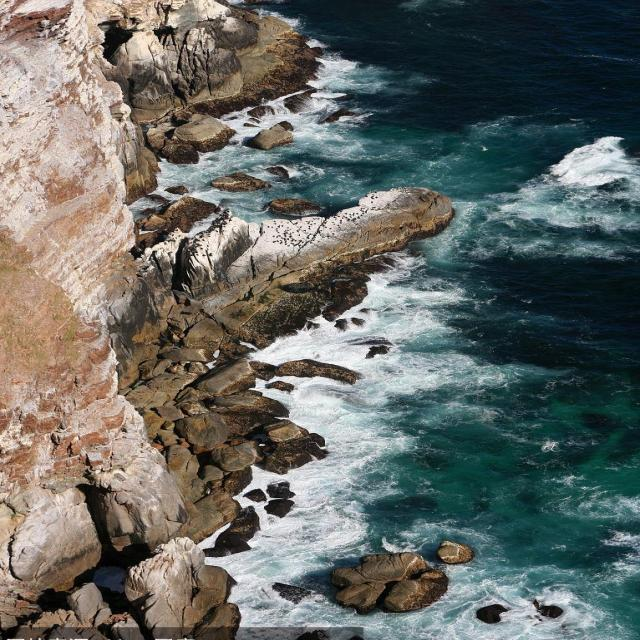reef: (190, 322, 360, 465), (199, 136, 406, 222), (294, 524, 516, 593)
